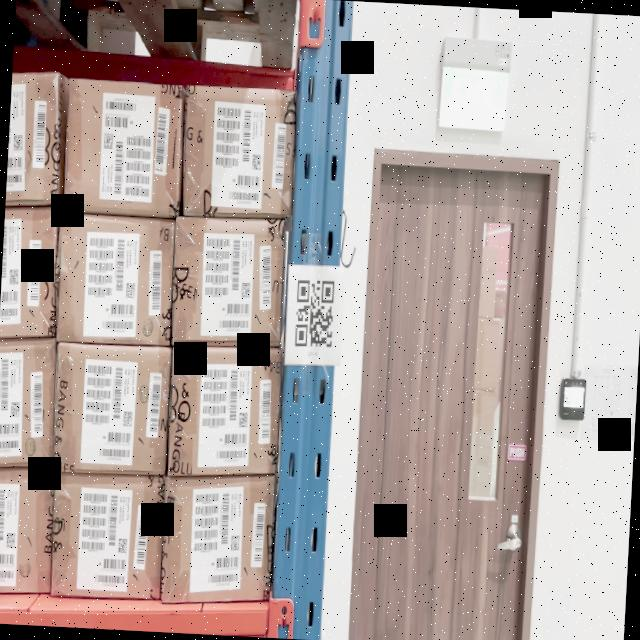box: (56, 213, 178, 351), (62, 76, 184, 214), (171, 217, 288, 352), (53, 342, 171, 475), (180, 86, 298, 218), (49, 472, 168, 601), (166, 346, 284, 476), (162, 475, 274, 605), (0, 206, 63, 339), (0, 340, 58, 472), (5, 71, 62, 202), (0, 462, 53, 593)
